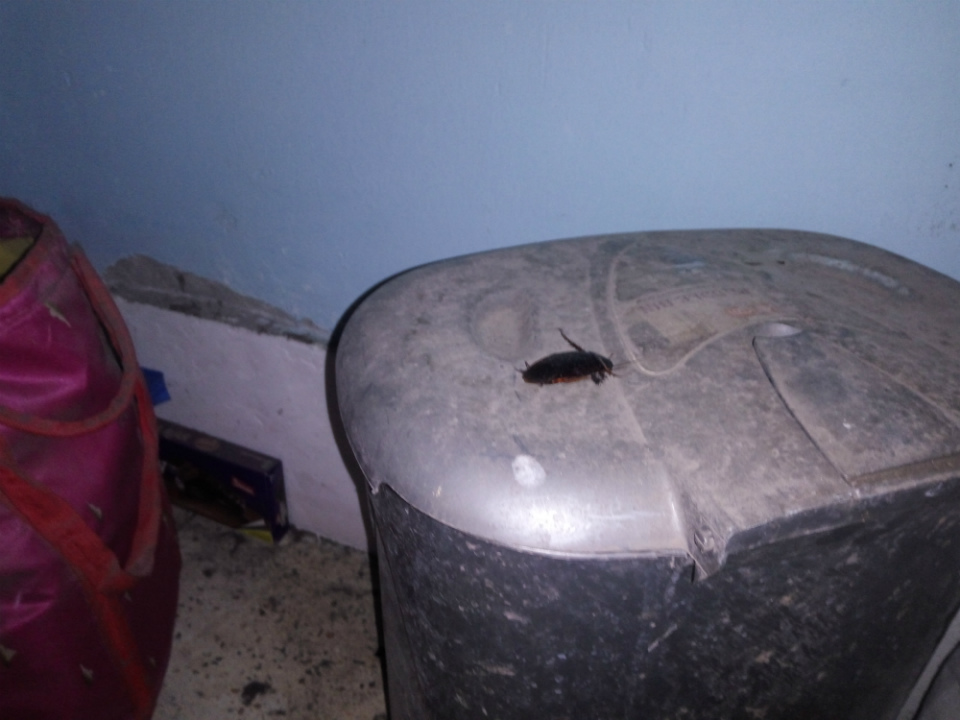cockroach: (439, 303, 716, 412)
